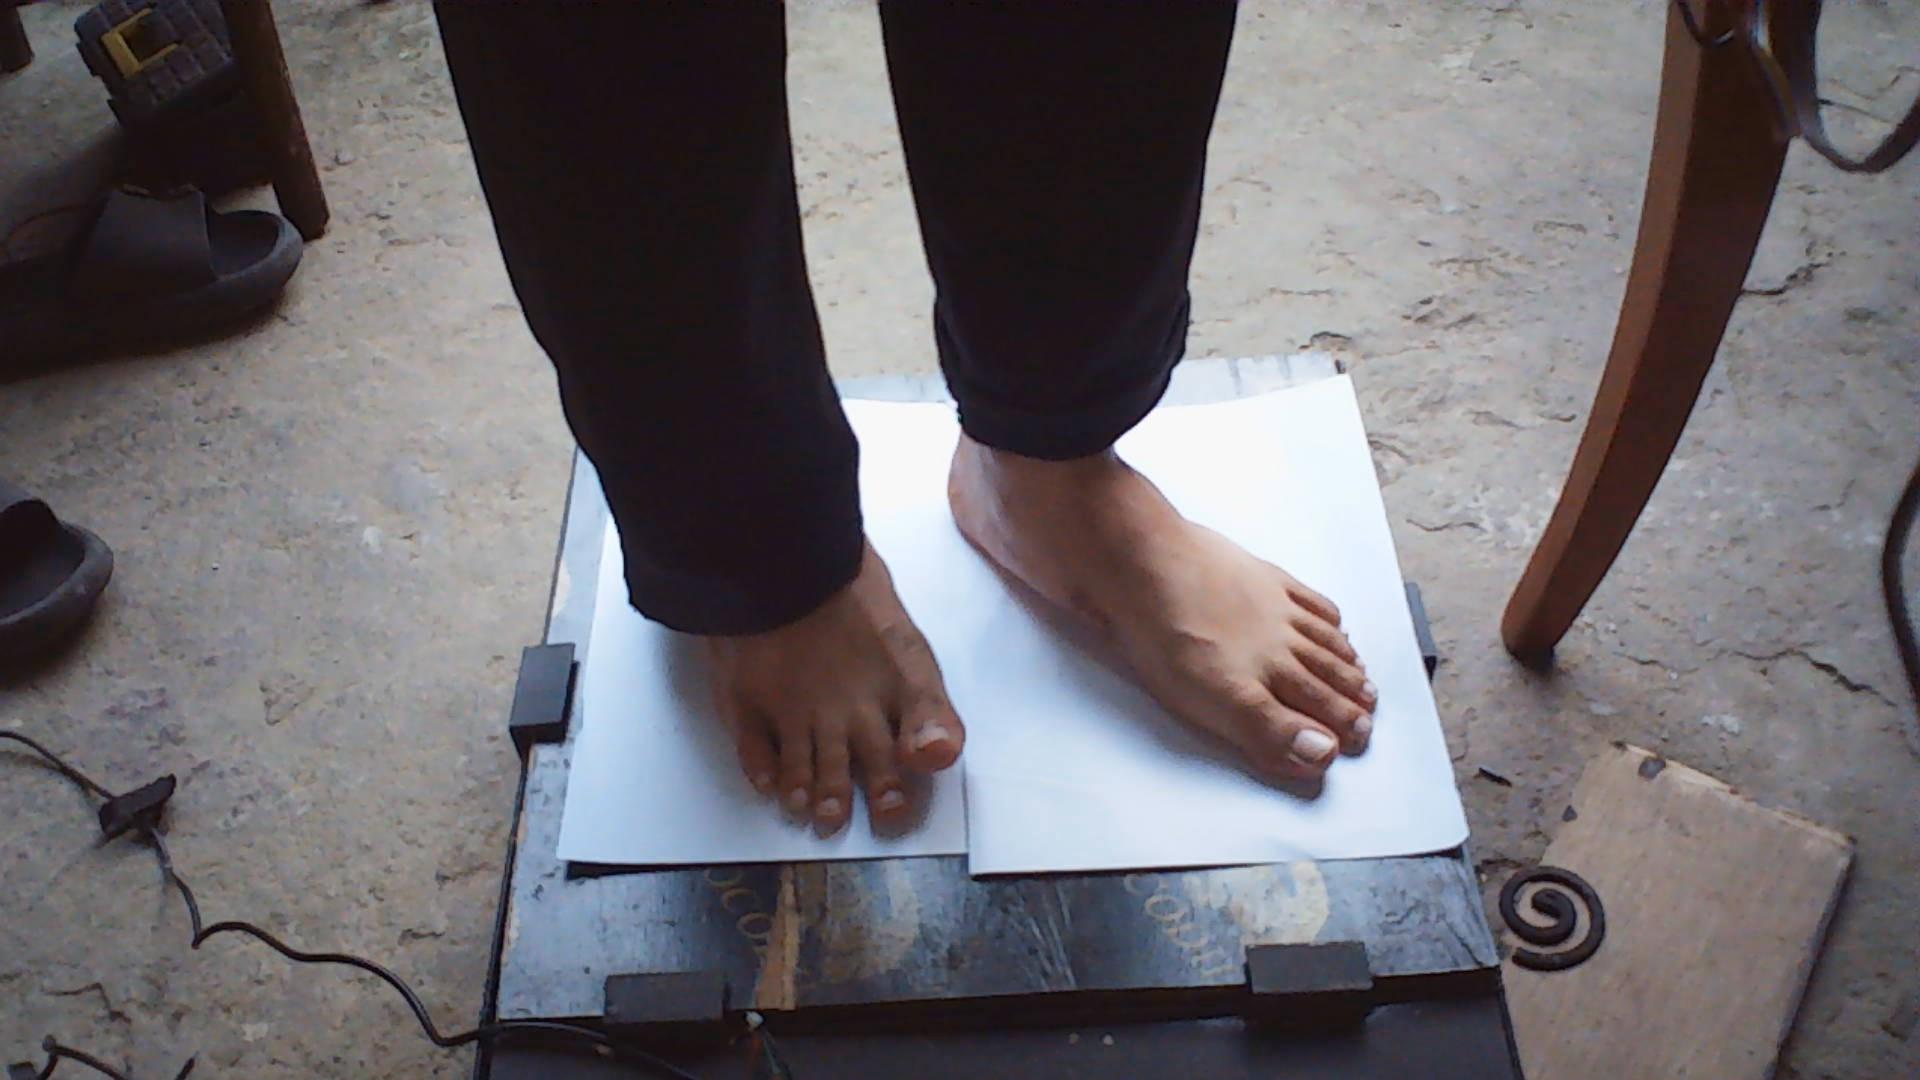Bare_feet: (942, 433, 1381, 796), (634, 584, 990, 843)
